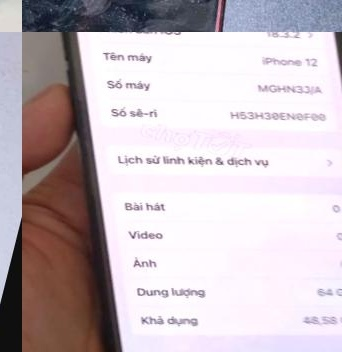scratch: (22, 0, 214, 32), (22, 0, 211, 32)
